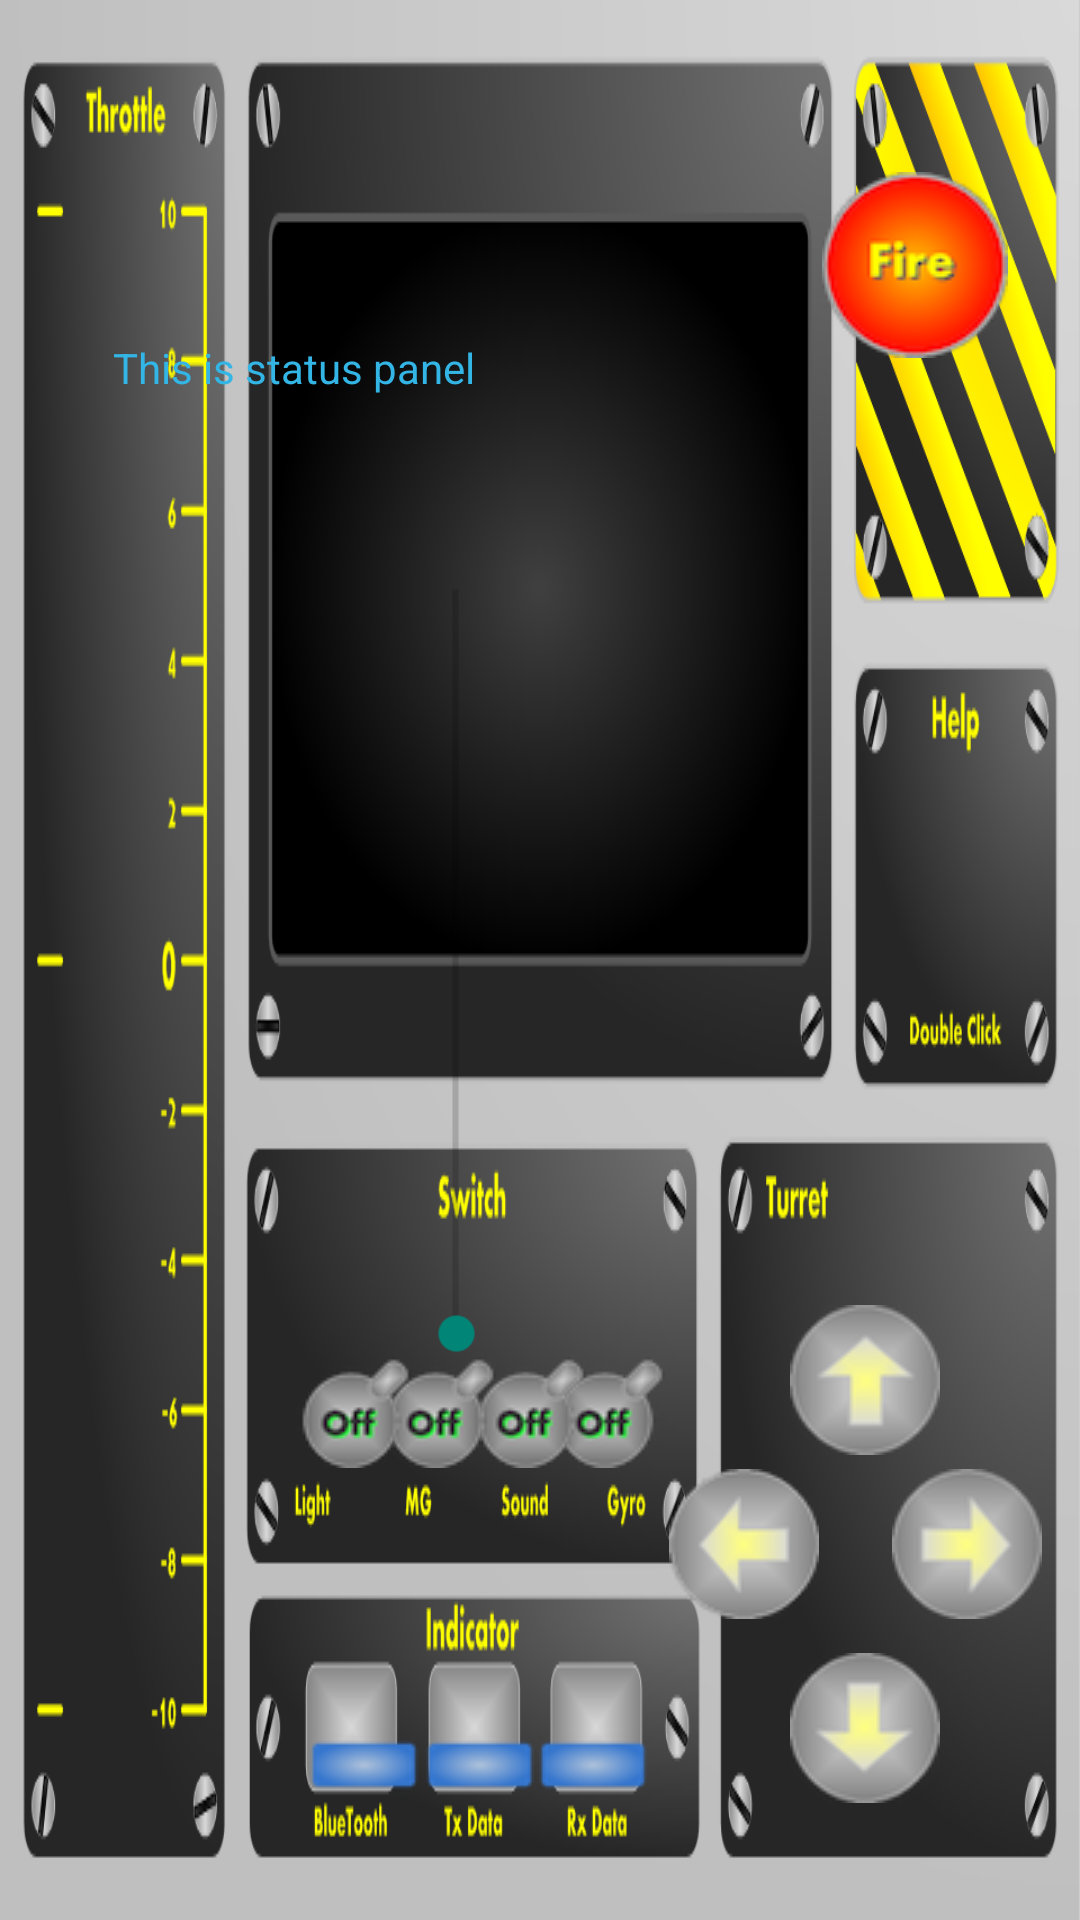

Named icons in this screenshot (1080 × 1920) and their bounding boxes, detection(x1, y1, x2, y2):
Down: detection(790, 1653, 940, 1803)
Left: detection(669, 1469, 819, 1619)
Right: detection(892, 1469, 1042, 1619)
Up: detection(790, 1305, 940, 1455)
